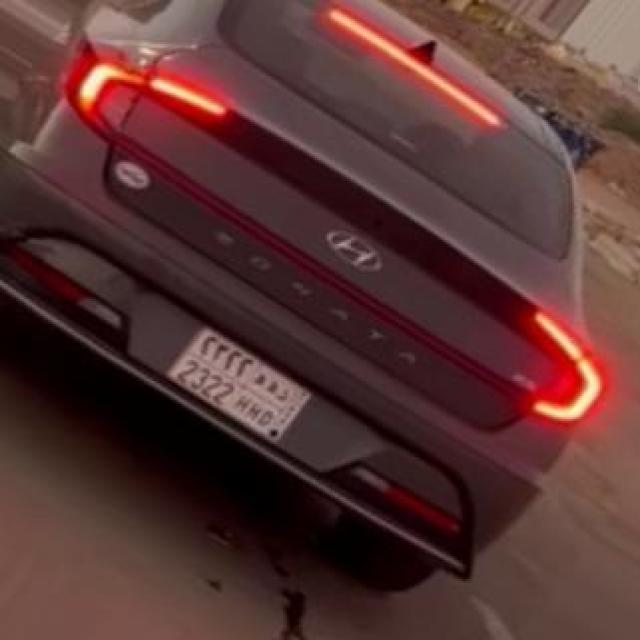Car-plate: (164, 312, 320, 463)
